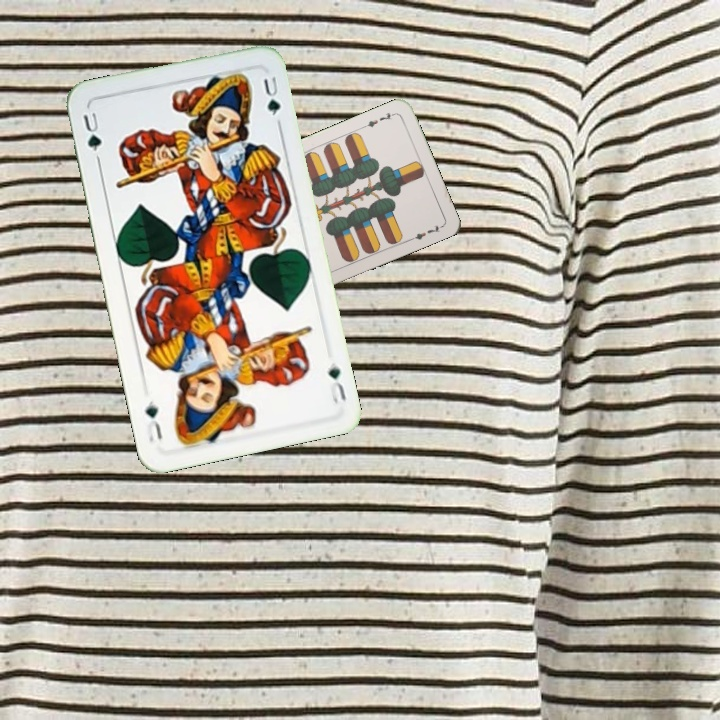E7: (359, 109, 398, 130)
GU: (324, 358, 349, 407), (79, 108, 105, 154)
